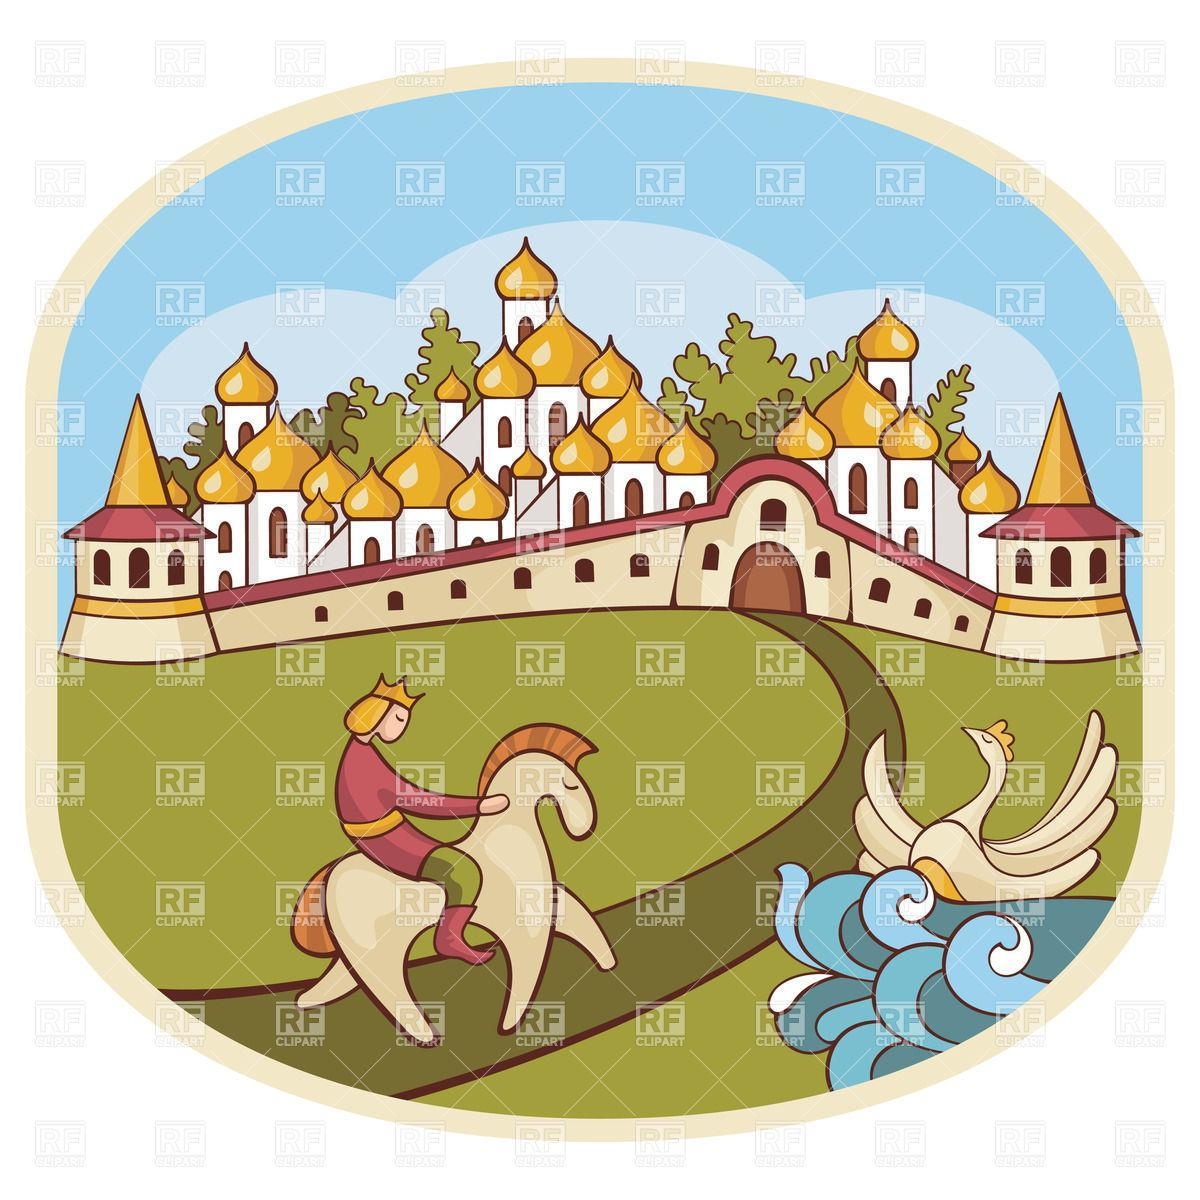bird: (837, 696, 1116, 910)
horse: (245, 706, 640, 1027)
person: (316, 643, 495, 975)
